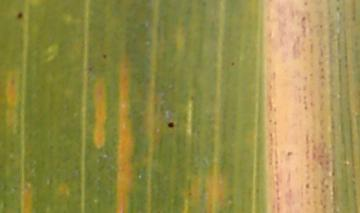tarspot: (166, 120, 175, 129), (15, 11, 24, 20), (285, 149, 294, 157), (101, 51, 108, 59), (304, 182, 309, 191), (230, 60, 235, 66)
